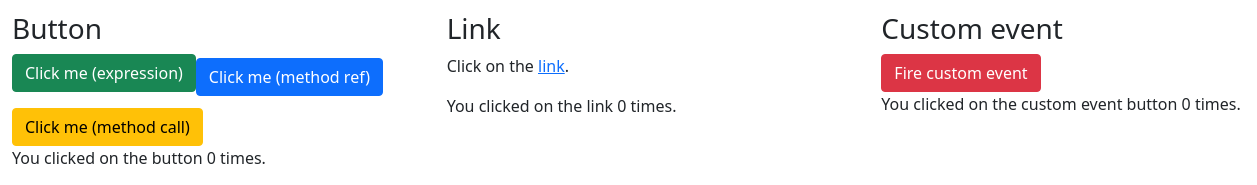
Scenario: EventHandler regular events › vue/test-utils
Expected: the text with class "buttonMsg" shows "0", [12,147,266,169]
Click the button "Click me (method ref)".
click(289, 77)  # box [196,58,383,96]
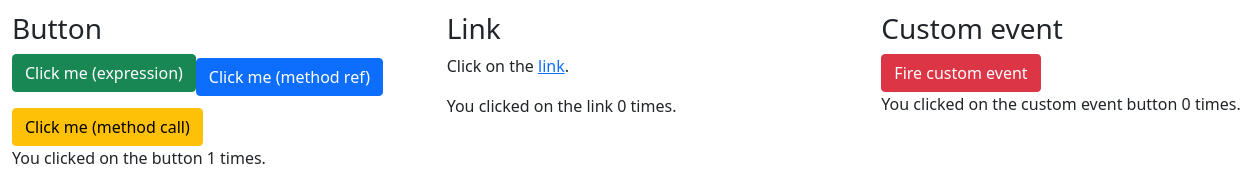
Expected: the text with class "buttonMsg" shows "1", [12,147,266,169]
